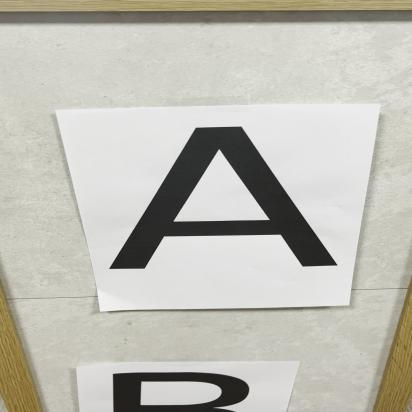seat: (117, 114, 330, 289)
